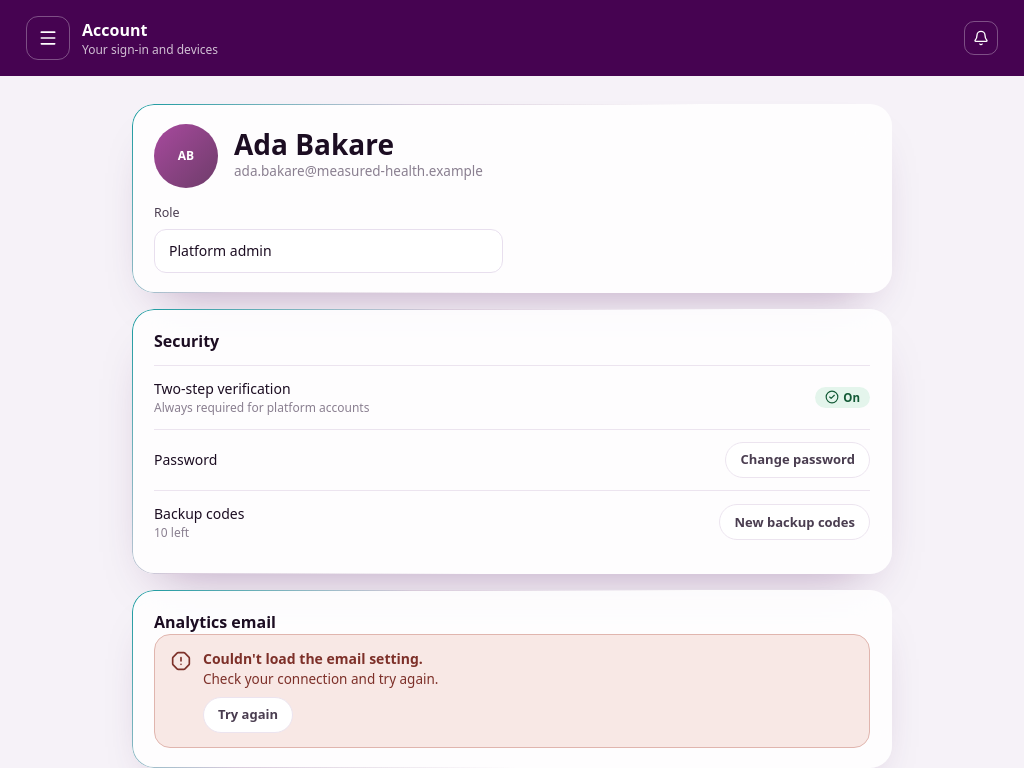
Account actions › a wrong current password says so and stays open
Click the button "Change password" at (798, 460), box [725, 442, 870, 478]
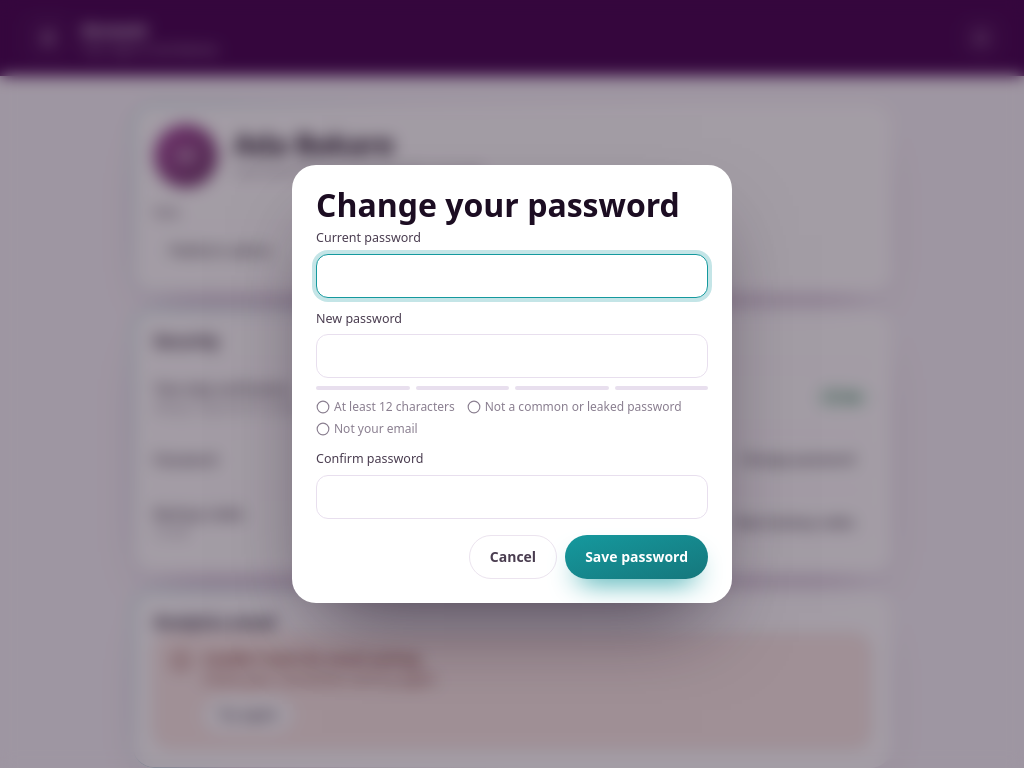
Type "wrong" into the password field labelled "Current password" at (512, 276), box [316, 254, 708, 298]
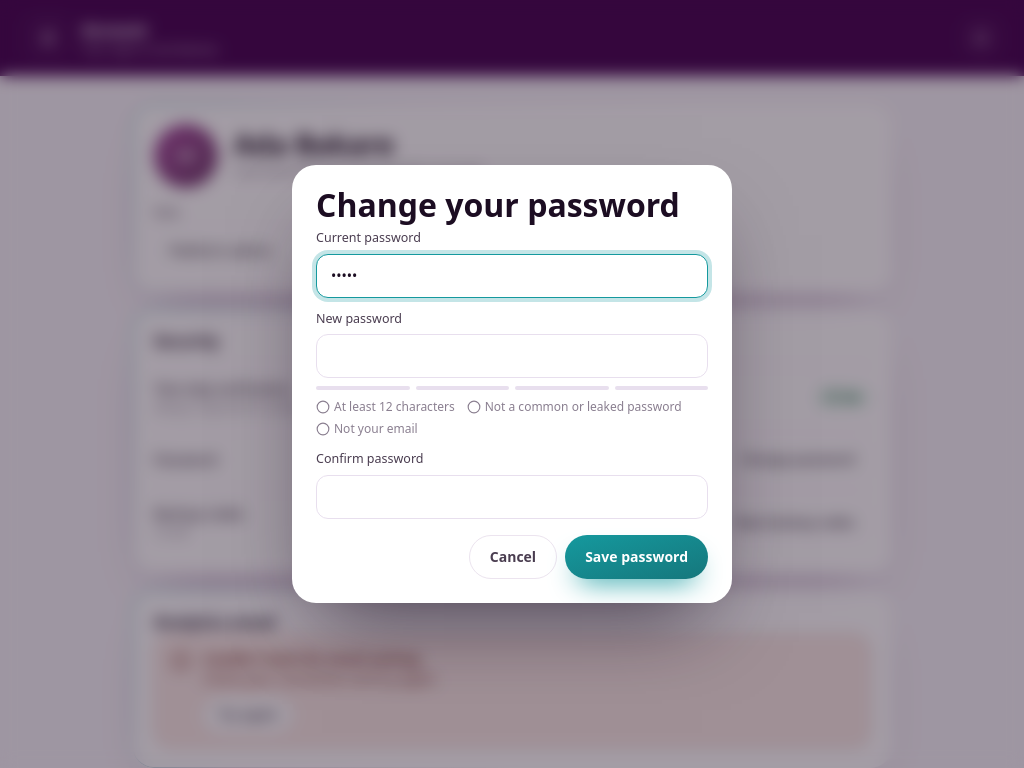
Type "Violet-river-lamp-42" into the password field labelled "New password" at (512, 356), box [316, 334, 708, 378]
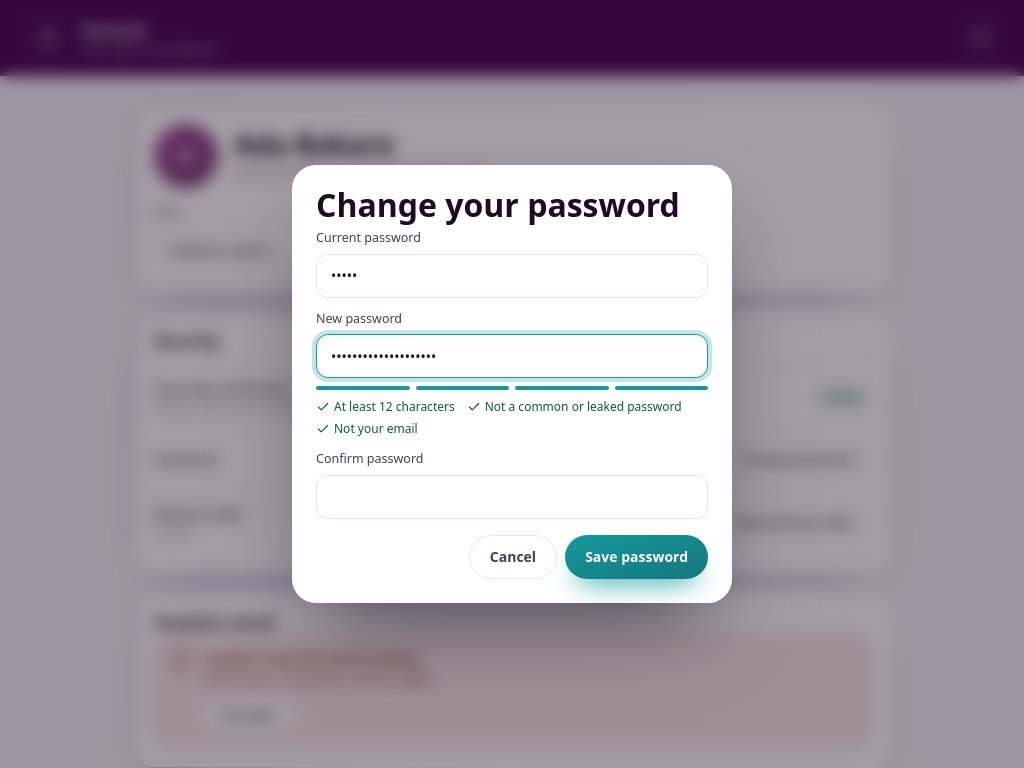
Type "Violet-river-lamp-42" into the password field labelled "Confirm password" at (512, 497), box [316, 475, 708, 519]
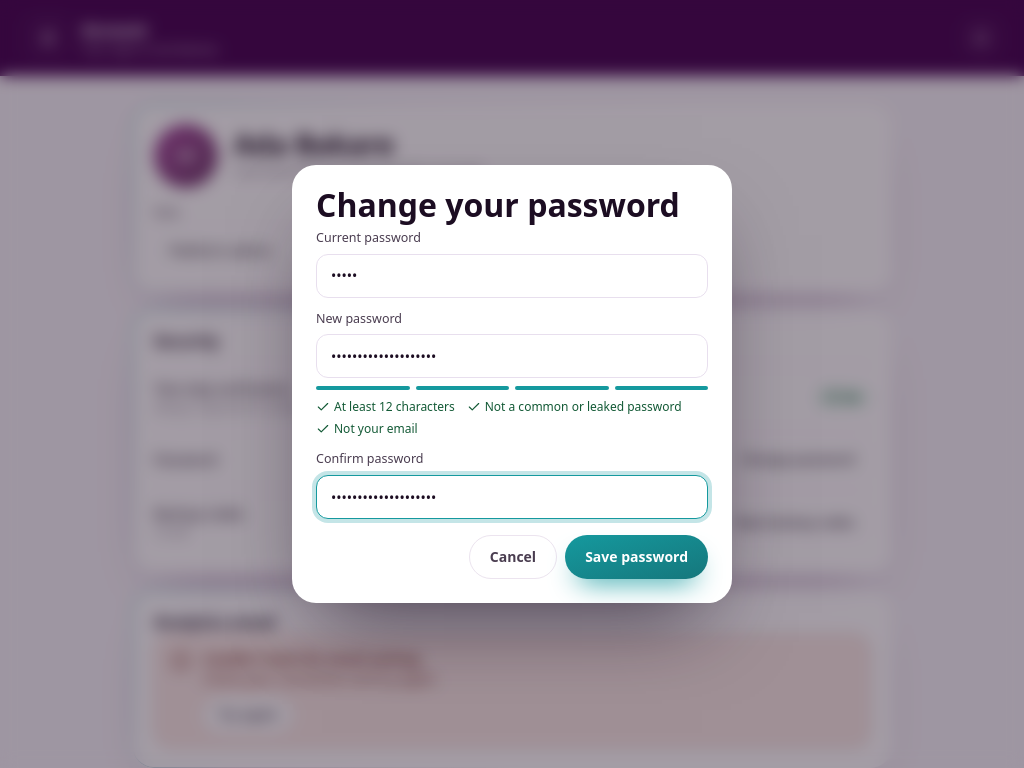
Click the button "Save password" at (637, 557), box [565, 535, 708, 579]
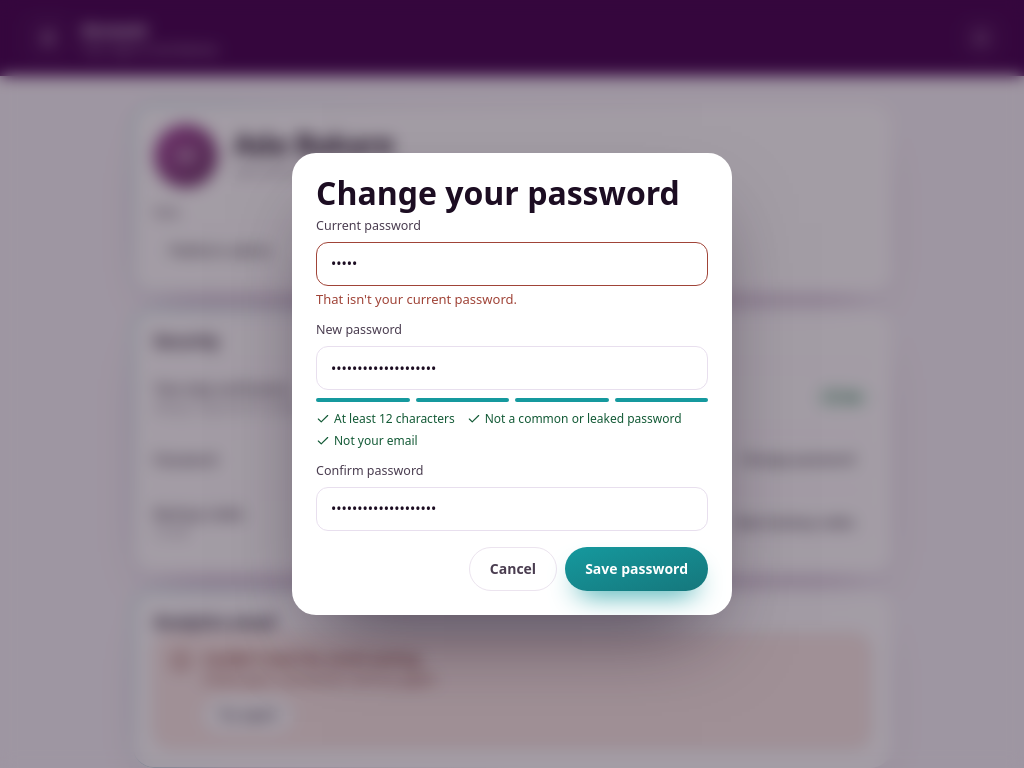
Check: the text "That isn't your current password." is shown, box [316, 290, 517, 308]
